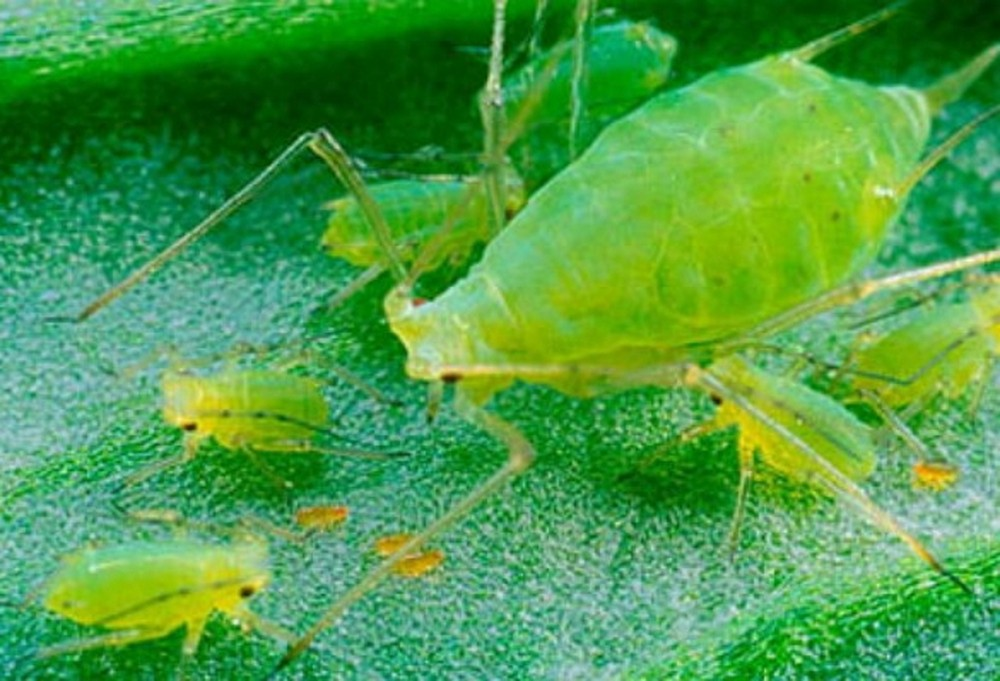Pulgon: (256, 5, 995, 531), (105, 328, 420, 497), (650, 336, 890, 553), (33, 504, 326, 672), (295, 144, 557, 311), (439, 13, 698, 157), (836, 272, 1000, 450)
